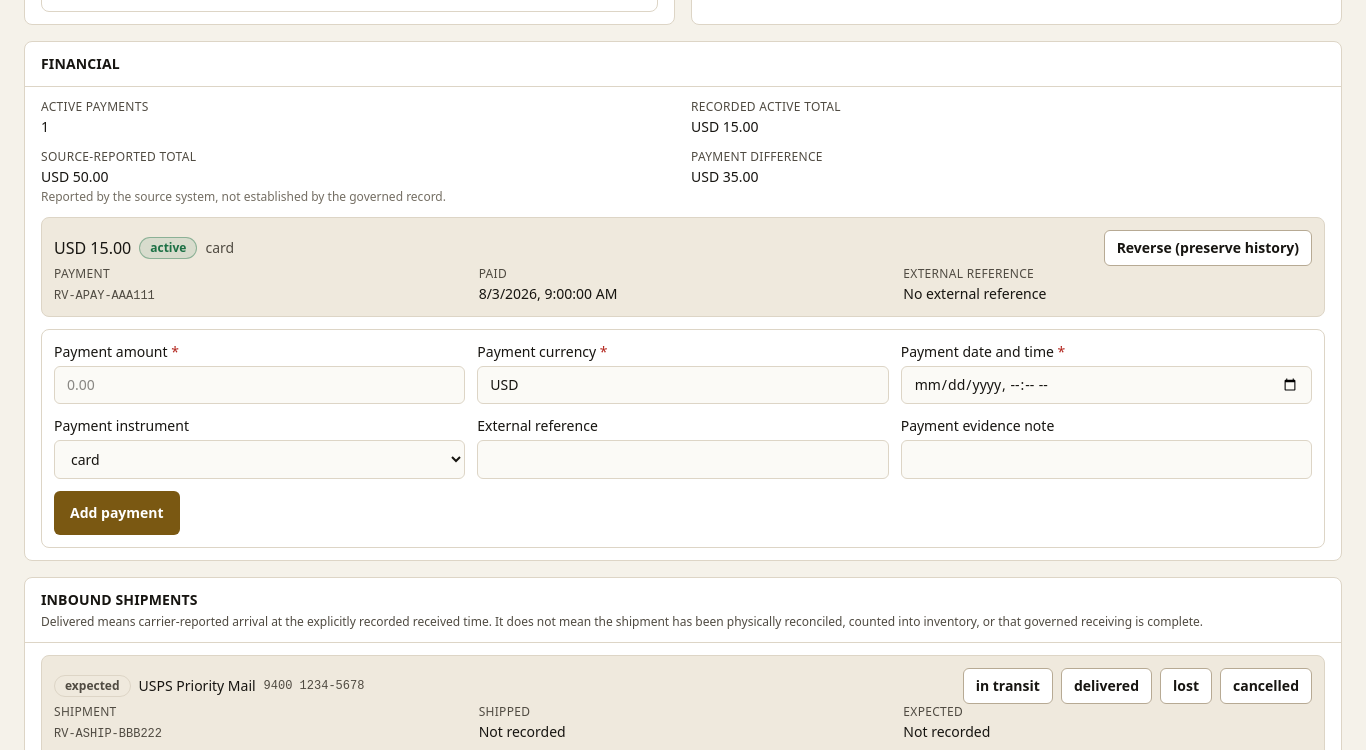
Scenario: acquisition detail — payment and shipment forms › sends no request for an invalid payment amount
This screenshot has width=1366, height=750.
(page scrolled)
Type "12.345" into the field labelled "Payment amount *".
click(260, 385); type("12.345")  # box [54,366,465,404]
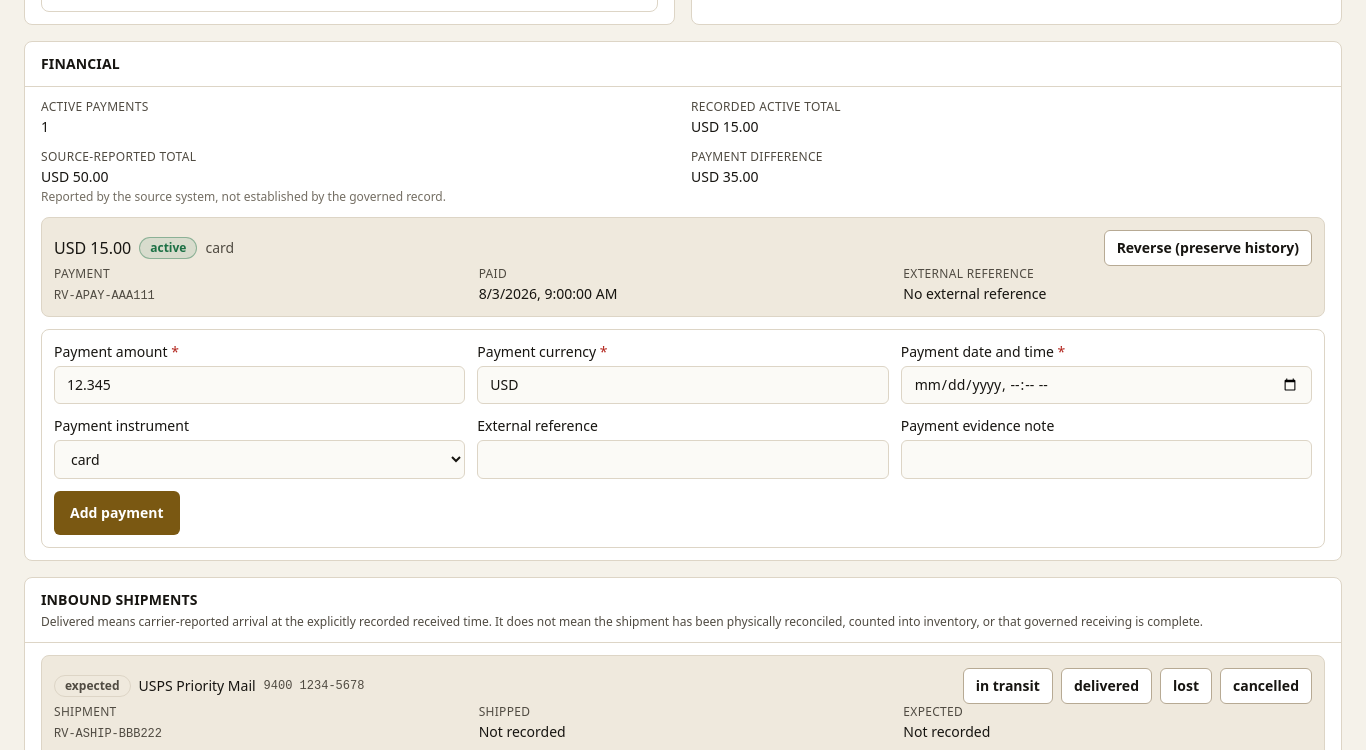
Type "2026-08-06T12:00" into the field labelled "Payment date and time *".
click(1106, 385); type("2026-08-06T12:00")  # box [901,366,1312,404]
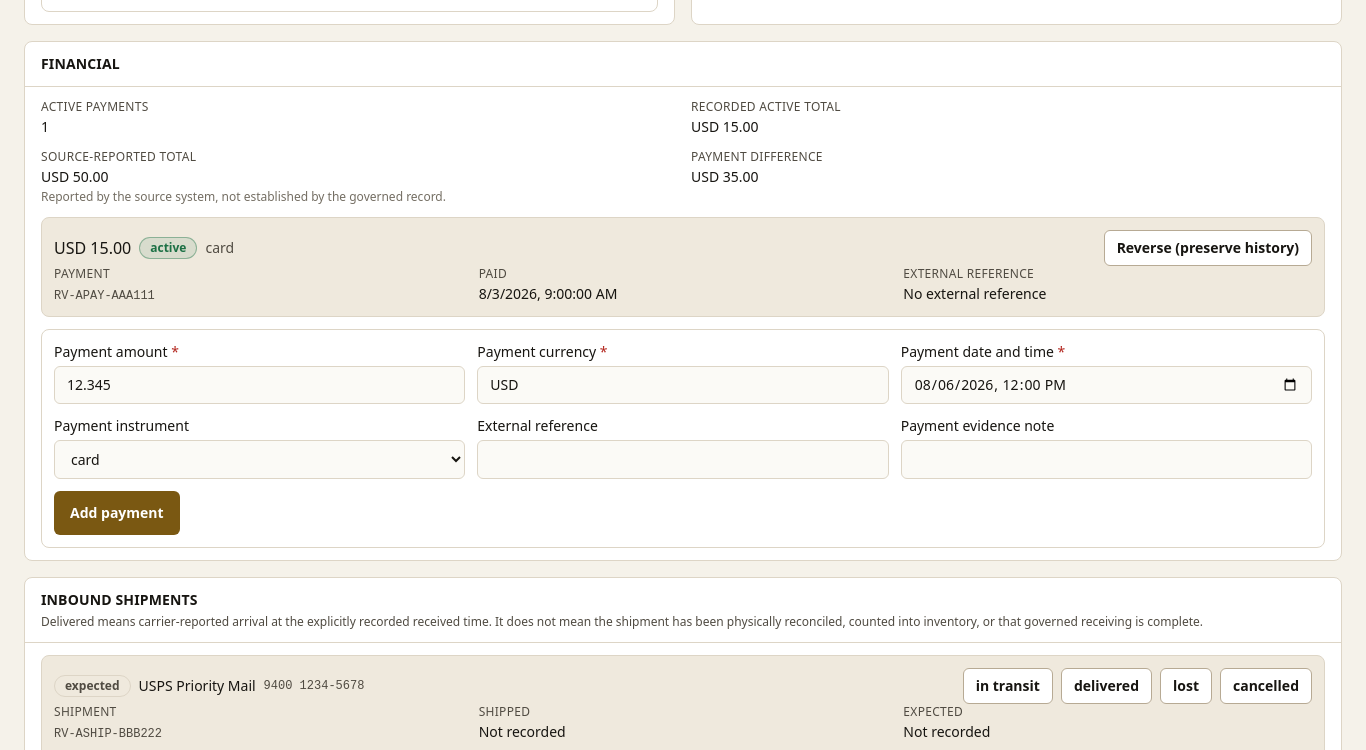
Submit the form named "Record payment", box [41,329,1325,548]
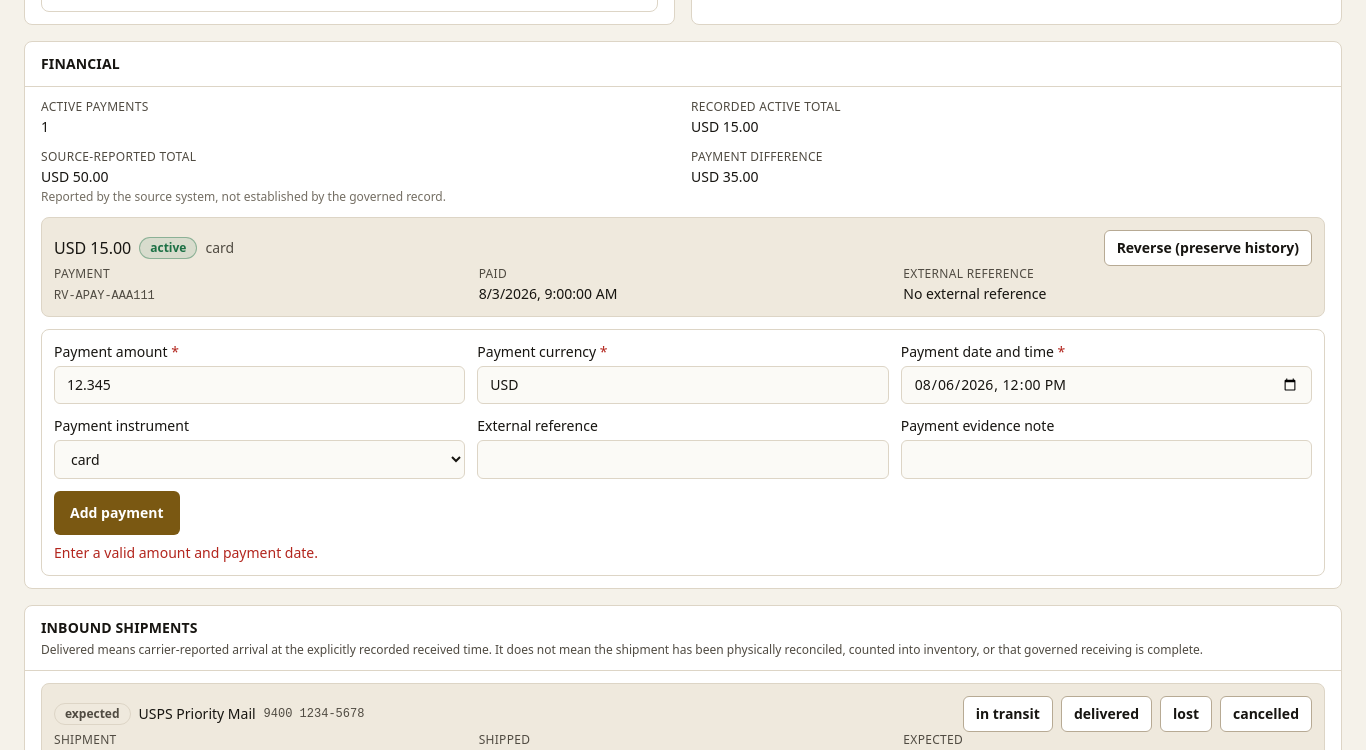
Now the text "Enter a valid amount and payment date." is shown, box [54,543,318,562]
